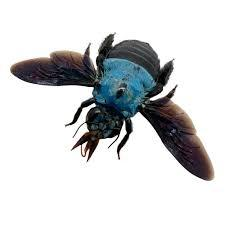Xylocopa: (18, 33, 218, 188)
